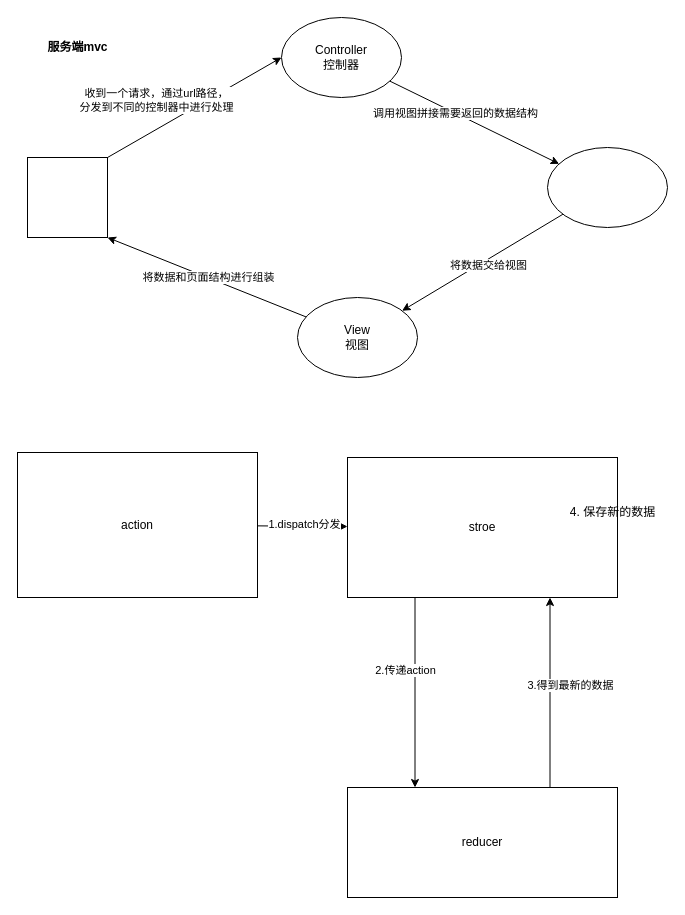
This 685x915 diagram has some shape labels left out. Each missing label, with the centre of its shape:
Model 数据模型: [607,187]
服务器: [67,197]
